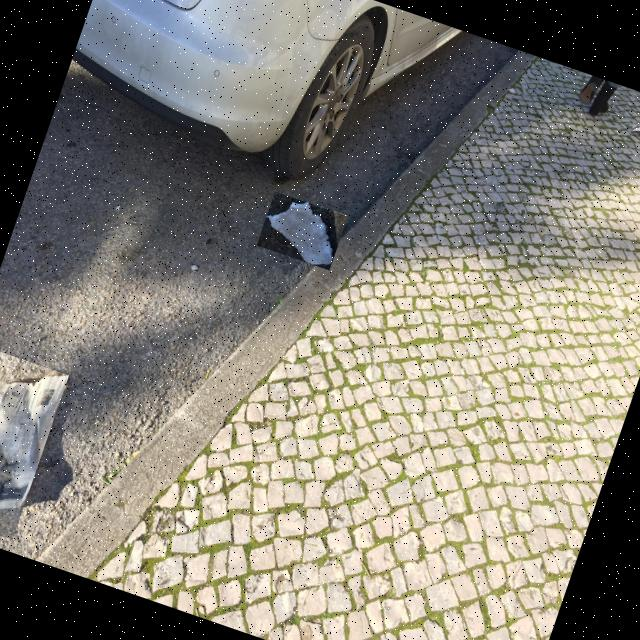Normal paper: (0, 375, 68, 509)
Styrofoam piece: (266, 202, 333, 266), (190, 265, 198, 270)
Unlabeled litter: (631, 128, 640, 134)
